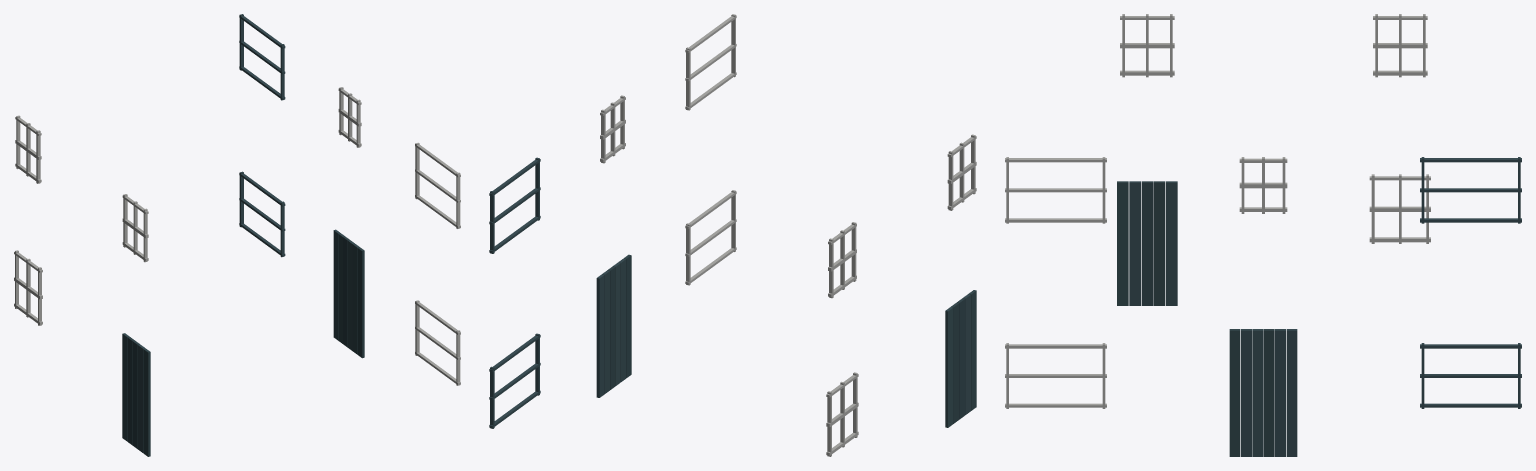
Rendered from SM_Bld_094_Wood.glb.
The picture shows the model from 3 angles, left to right: view 1: azimuth 30°, elevation 25°; view 2: azimuth 150°, elevation 25°; view 3: azimuth 270°, elevation 25°; orthographic projection. The views are drawn at different scales.
Visible parts, largest first — view 1: SM_Bld_094_Wood; view 2: SM_Bld_094_Wood; view 3: SM_Bld_094_Wood.
Part boxes in pixels (box(x1,y1,x2,y2)): SM_Bld_094_Wood: box(14, 14, 460, 456); SM_Bld_094_Wood: box(489, 14, 976, 456); SM_Bld_094_Wood: box(1005, 14, 1521, 456).
Size of the model in its own units: 5.34 by 4.85 by 7.59.
